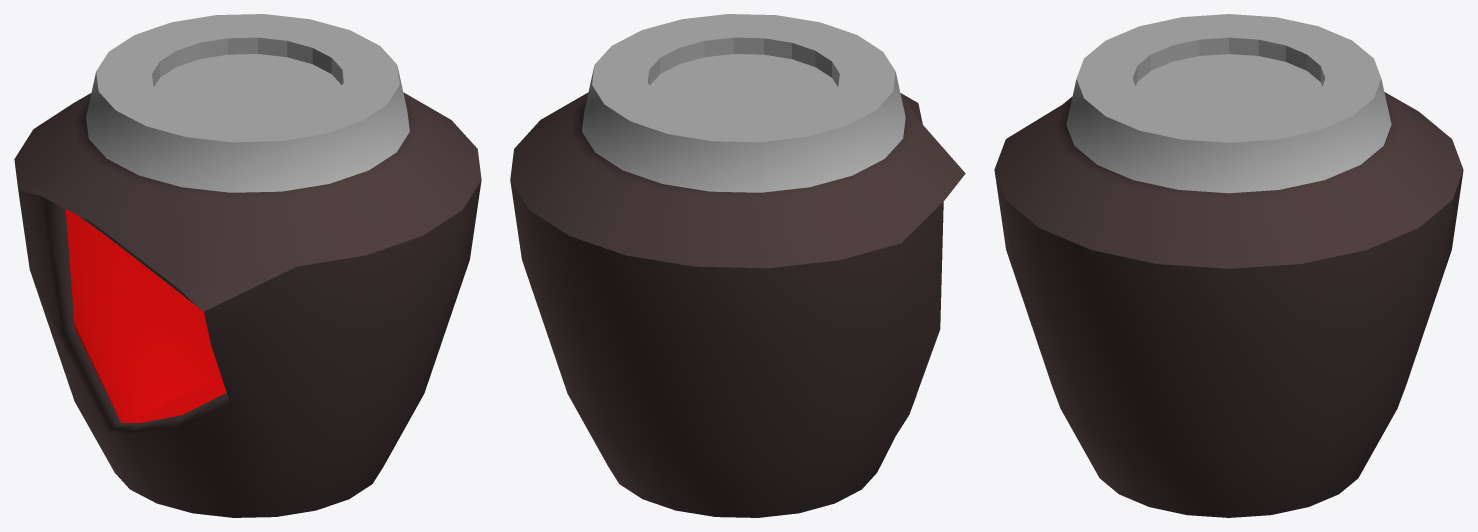
Rendered from jarron roto 2.fbx.
3 renders of one model, left to right at view 1: azimuth 30°, elevation 25°; view 2: azimuth 150°, elevation 25°; view 3: azimuth 270°, elevation 25°, orthographic.
Visible parts, largest first — view 1: pCylinder1; view 2: pCylinder1; view 3: pCylinder1.
Part boxes in pixels (box(x1,y1,x2,y2)): pCylinder1: box(14, 14, 481, 517); pCylinder1: box(510, 14, 965, 517); pCylinder1: box(994, 14, 1463, 517).
Size of the model in its own units: 1.34 by 1.2 by 1.34.
